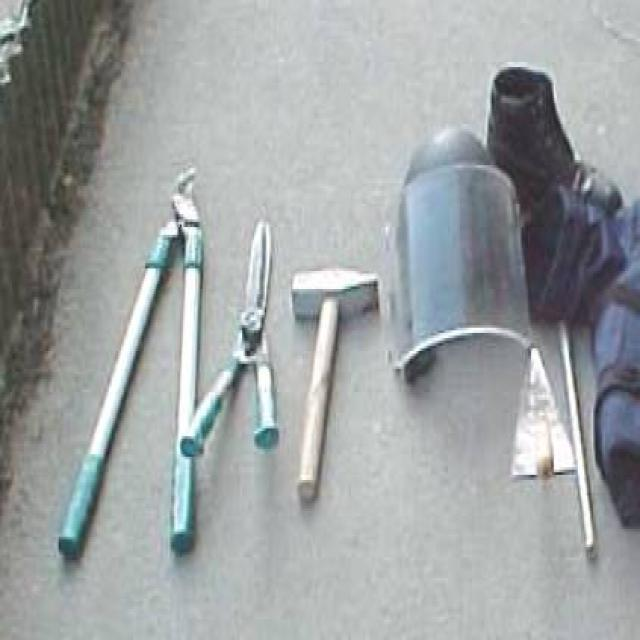hammer: (282, 253, 383, 521)
